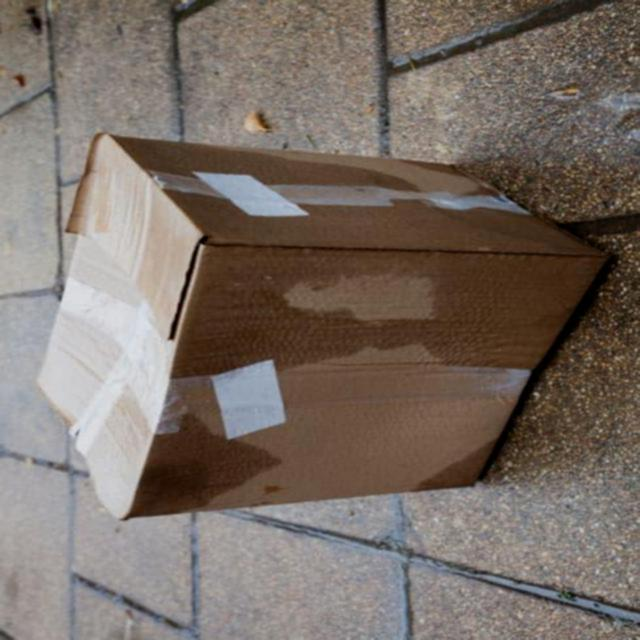box: (41, 138, 589, 502)
contamination: (105, 132, 613, 352), (69, 411, 257, 521)
